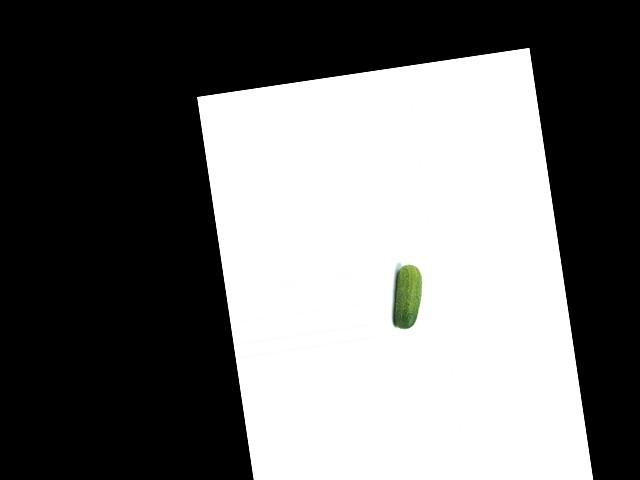cucumber: (386, 263, 428, 330)
